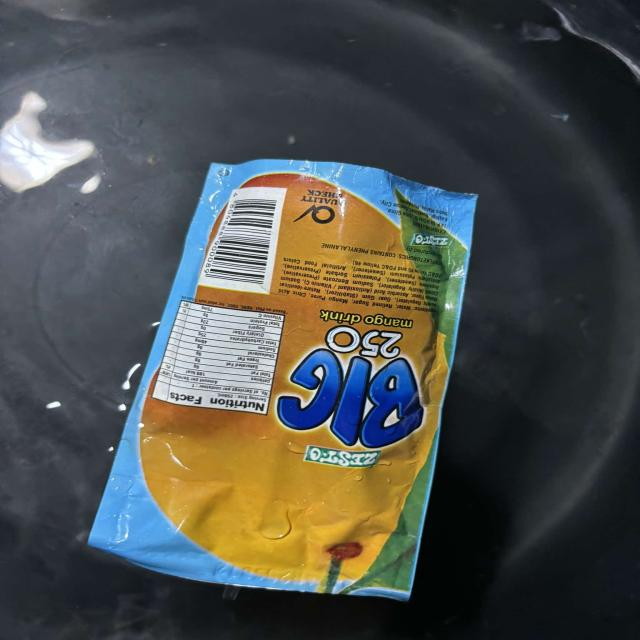Plastic Pouch: (67, 105, 484, 611)
